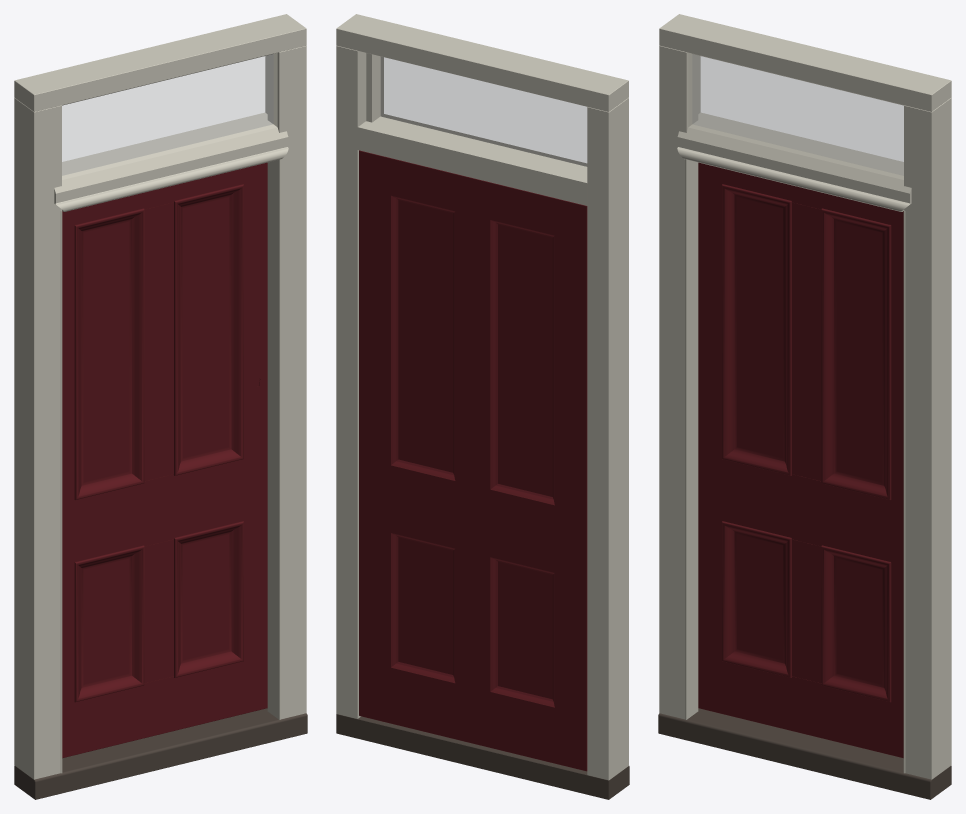
File: door_F1.glb
3 renders of one model, left to right at view 1: azimuth 30°, elevation 25°; view 2: azimuth 150°, elevation 25°; view 3: azimuth 330°, elevation 25°, orthographic.
Parts seen in each view (by area): view 1: leaf_frame, frame_jamb_L, frame_jamb_R, glass_fanlight, panel_top_left, panel_top_right, frame_transom, frame_head, stone_threshold, moulding_bolection_top_left, moulding_bolection_top_right, panel_bottom_left (+6 smaller); view 2: leaf_frame, frame_jamb_L, frame_jamb_R, panel_top_right, panel_top_left, glass_fanlight, frame_head, frame_transom, panel_bottom_right, panel_bottom_left, stone_threshold, moulding_single_top_right (+4 smaller); view 3: leaf_frame, frame_jamb_R, frame_jamb_L, glass_fanlight, panel_top_right, panel_top_left, frame_transom, frame_head, stone_threshold, moulding_bolection_top_right, moulding_bolection_top_left, panel_bottom_right (+6 smaller).
Boxes of the visible parts, x1,y1,x2,y2 form: leaf_frame: (62, 162, 267, 758); frame_jamb_L: (14, 97, 61, 779); frame_jamb_R: (265, 45, 306, 719); glass_fanlight: (62, 54, 273, 175); panel_top_left: (83, 221, 129, 482); panel_top_right: (183, 197, 228, 458); frame_transom: (54, 112, 288, 211); frame_head: (14, 14, 306, 111); stone_threshold: (14, 708, 307, 799); moulding_bolection_top_left: (74, 208, 144, 499); moulding_bolection_top_right: (174, 184, 243, 475); panel_bottom_left: (83, 558, 129, 684); leaf_frame: (359, 150, 587, 771); frame_jamb_L: (587, 98, 628, 780); frame_jamb_R: (336, 45, 380, 718); panel_top_right: (398, 200, 453, 472); panel_top_left: (498, 224, 552, 496); glass_fanlight: (381, 57, 586, 166); frame_head: (336, 14, 628, 111); frame_transom: (357, 116, 587, 205); panel_bottom_right: (398, 537, 453, 674); panel_bottom_left: (498, 561, 552, 699); stone_threshold: (336, 714, 629, 799); moulding_single_top_right: (389, 194, 456, 482); leaf_frame: (698, 162, 903, 758); frame_jamb_R: (904, 97, 951, 779); frame_jamb_L: (659, 45, 700, 719); glass_fanlight: (692, 54, 903, 175); panel_top_right: (836, 221, 882, 482); panel_top_left: (737, 197, 782, 458); frame_transom: (677, 112, 911, 211); frame_head: (659, 14, 951, 111); stone_threshold: (658, 708, 951, 799); moulding_bolection_top_right: (821, 208, 891, 499); moulding_bolection_top_left: (722, 184, 791, 475); panel_bottom_right: (836, 558, 882, 684).
Size of the model in its own units: 1 by 2.47 by 0.149.
